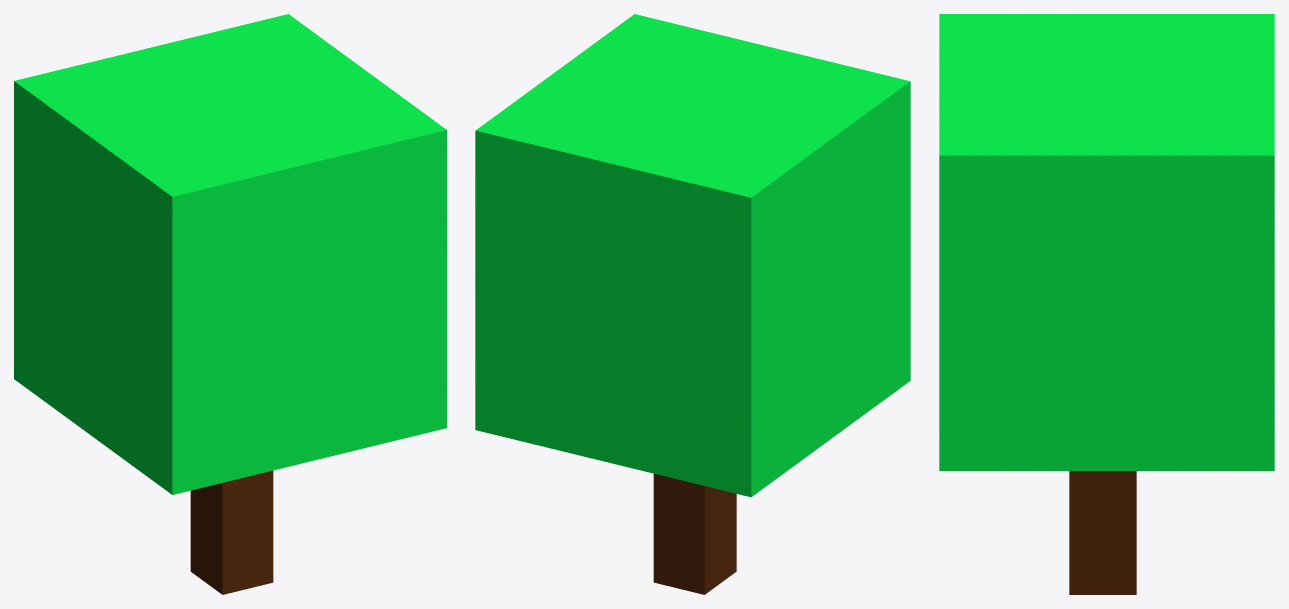
The model's file is Arbre Battle.fbx.
The picture shows the model from 3 angles, left to right: view 1: azimuth 30°, elevation 25°; view 2: azimuth 150°, elevation 25°; view 3: azimuth 270°, elevation 25°; orthographic projection. The views are drawn at different scales.
Parts seen in each view (by area): view 1: root (×2); view 2: root (×2); view 3: root (×2).
Part boxes in pixels (bbox=[...]): root (×2): bbox=[14, 14, 446, 594]; root (×2): bbox=[475, 14, 910, 594]; root (×2): bbox=[939, 14, 1274, 594].
Size of the model in its own units: 0.2567 by 0.4202 by 0.2567.
2 materials, 2 textured.
